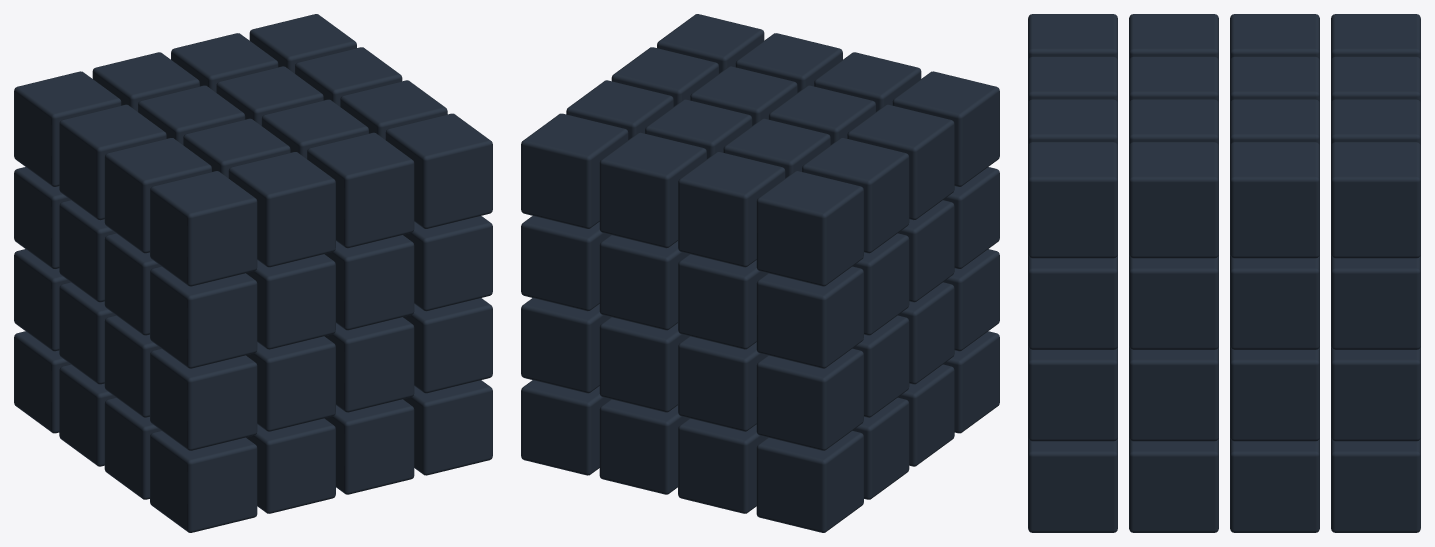
Rendered from morph.glb.
3 views of the same model, side by side, from view 1: azimuth 30°, elevation 25°; view 2: azimuth 150°, elevation 25°; view 3: azimuth 270°, elevation 25° (orthographic). The views are drawn at different scales.
Visible parts, largest first — view 1: frag3, frag0, frag1, frag2, frag35, frag19, frag51, frag18, frag32, frag48, frag50, frag17 (+25 smaller); view 2: frag15, frag12, frag13, frag14, frag47, frag31, frag63, frag30, frag44, frag60, frag62, frag29 (+25 smaller); view 3: frag51, frag55, frag59, frag63, frag49, frag61, frag52, frag53, frag54, frag56, frag57, frag58 (+16 smaller).
Part boxes in pixels (left/top/right/bottom): frag3: left=150, top=171, right=257, bottom=286; frag0: left=150, top=430, right=257, bottom=532; frag1: left=150, top=348, right=257, bottom=450; frag2: left=150, top=266, right=257, bottom=368; frag35: left=307, top=132, right=414, bottom=248; frag19: left=228, top=152, right=335, bottom=267; frag51: left=385, top=113, right=492, bottom=228; frag18: left=246, top=254, right=335, bottom=349; frag32: left=324, top=399, right=414, bottom=494; frag48: left=403, top=380, right=492, bottom=475; frag50: left=403, top=216, right=492, bottom=311; frag17: left=246, top=336, right=335, bottom=431; frag15: left=756, top=171, right=863, bottom=286; frag12: left=756, top=430, right=863, bottom=532; frag13: left=756, top=348, right=863, bottom=450; frag14: left=756, top=266, right=863, bottom=368; frag47: left=599, top=132, right=706, bottom=248; frag31: left=678, top=152, right=785, bottom=267; frag63: left=521, top=113, right=628, bottom=228; frag30: left=678, top=254, right=767, bottom=349; frag44: left=599, top=399, right=689, bottom=494; frag60: left=521, top=380, right=610, bottom=475; frag62: left=521, top=216, right=610, bottom=311; frag29: left=678, top=336, right=767, bottom=431; frag51: left=1028, top=142, right=1117, bottom=258; frag55: left=1129, top=142, right=1218, bottom=258; frag59: left=1230, top=142, right=1319, bottom=258; frag63: left=1331, top=142, right=1420, bottom=258; frag49: left=1028, top=346, right=1117, bottom=441; frag61: left=1331, top=346, right=1420, bottom=441; frag52: left=1129, top=437, right=1218, bottom=532; frag53: left=1129, top=346, right=1218, bottom=441; frag54: left=1129, top=254, right=1218, bottom=349; frag56: left=1230, top=437, right=1319, bottom=532; frag57: left=1230, top=346, right=1319, bottom=441; frag58: left=1230, top=254, right=1319, bottom=349.
Bounding box in the file's own units: 1.94 × 1.94 × 1.94.
